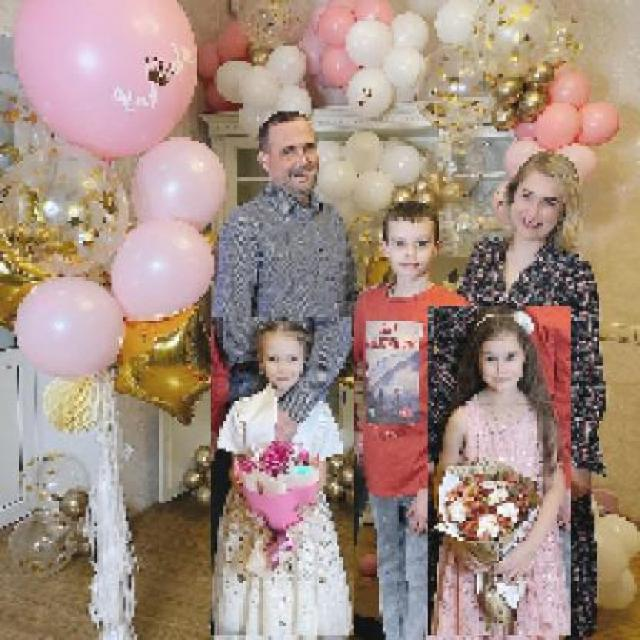child: (426, 306, 571, 637), (209, 317, 354, 637)
